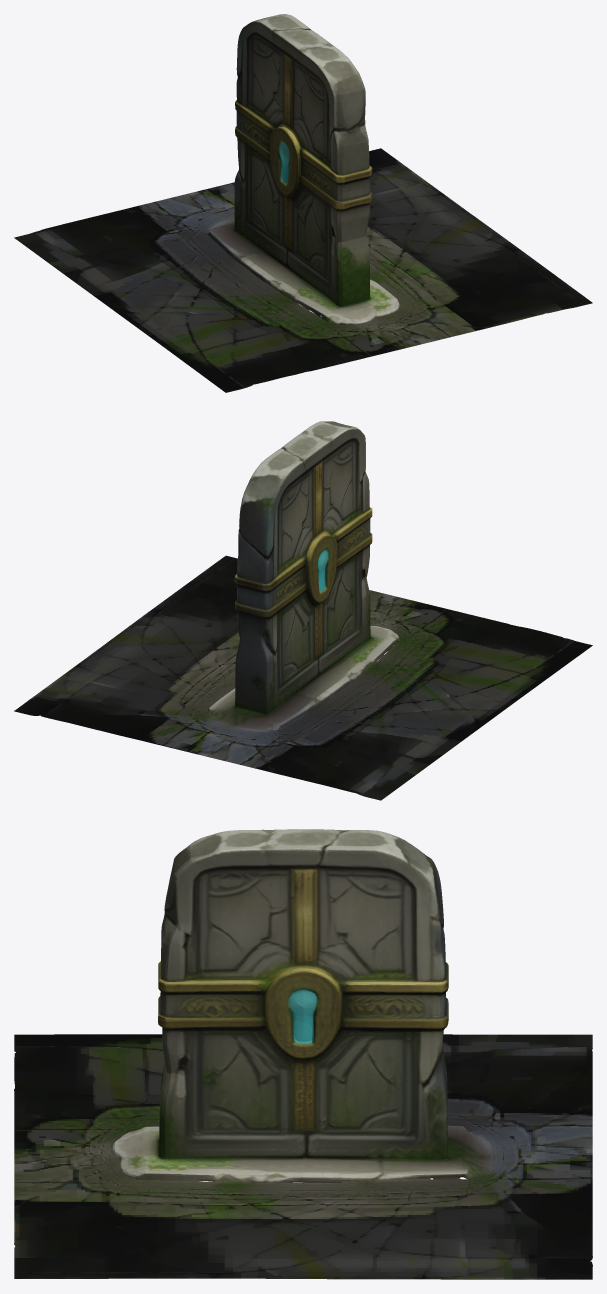
The model's file is rune_door2.glb.
3 renders of one model, top to bottom at view 1: azimuth 30°, elevation 25°; view 2: azimuth 150°, elevation 25°; view 3: azimuth 270°, elevation 25°, orthographic. The views are drawn at different scales.
Visible parts, largest first — view 1: world; view 2: world; view 3: world.
Part boxes in pixels (left/top/right/bottom): world: left=14, top=14, right=592, bottom=392; world: left=14, top=421, right=592, bottom=800; world: left=14, top=829, right=592, bottom=1279.
Size of the model in its own units: 1 by 0.6326 by 1.
Materials: 1 (1 with a texture image).
